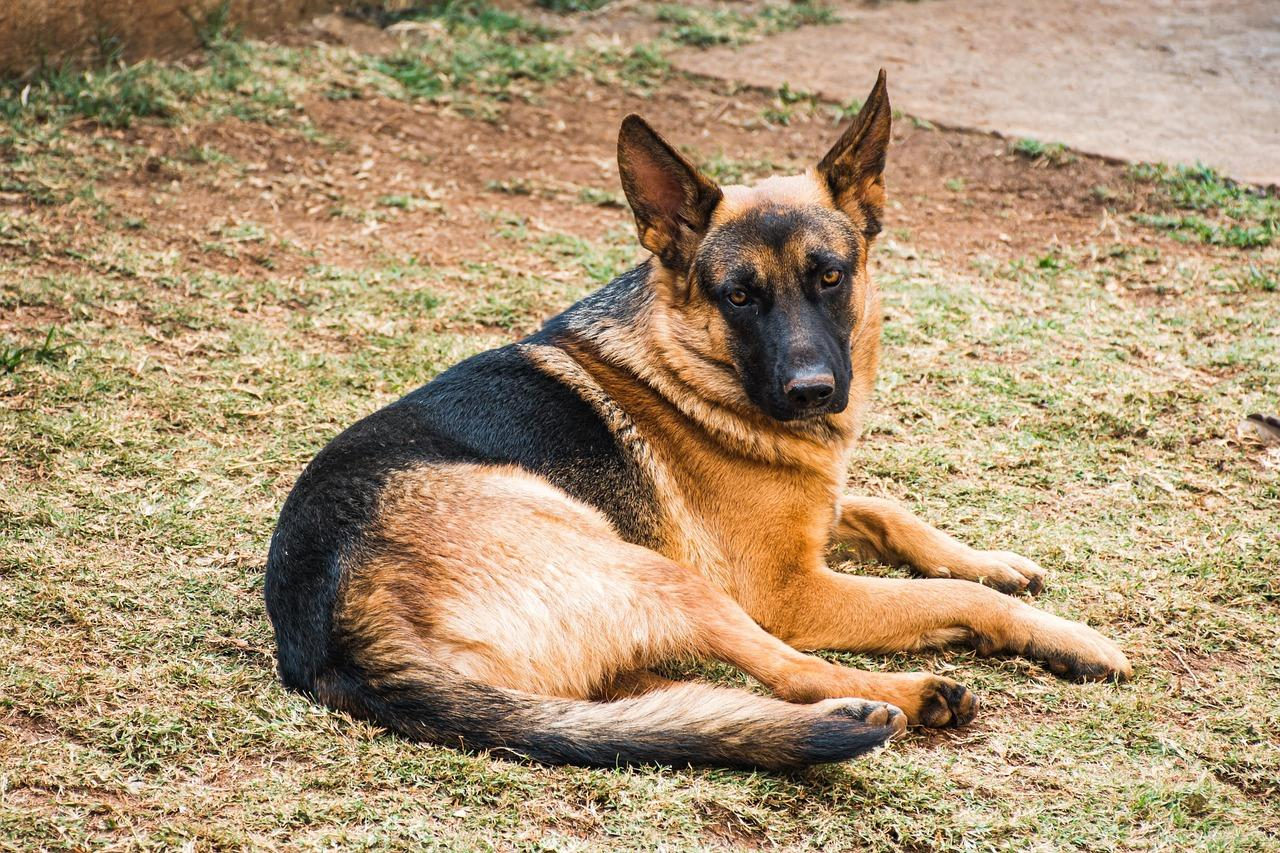german_shepherd: (637, 152, 929, 452)
